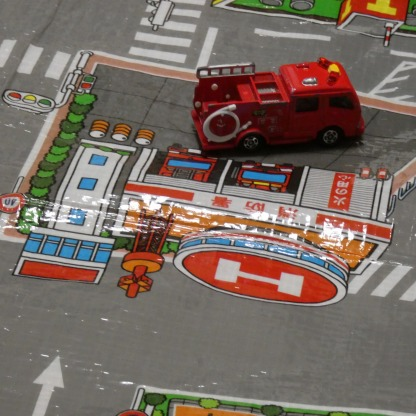car: (187, 54, 368, 158)
